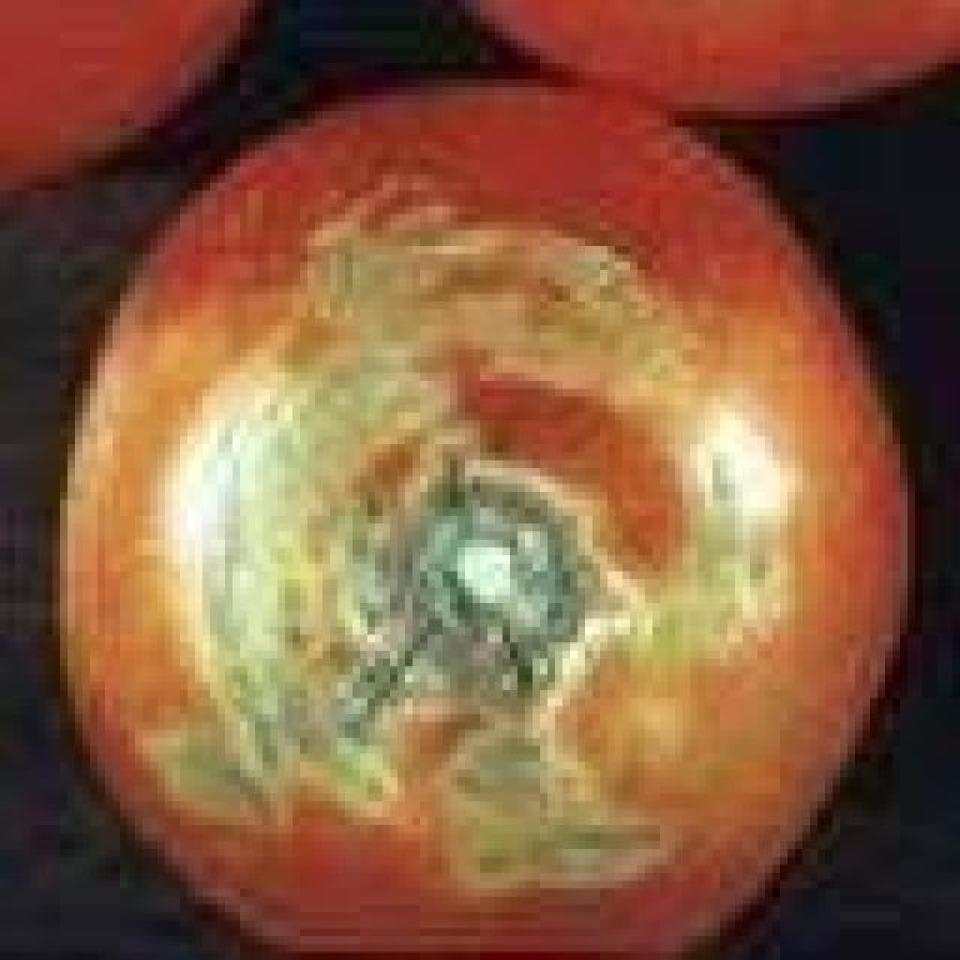Blossom_end_rot: (375, 384, 577, 694)
